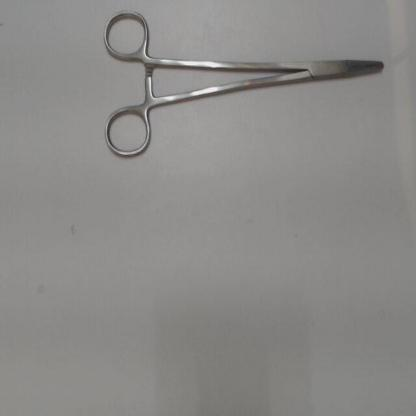8 Mayo Needle Holder: (90, 0, 394, 168)
